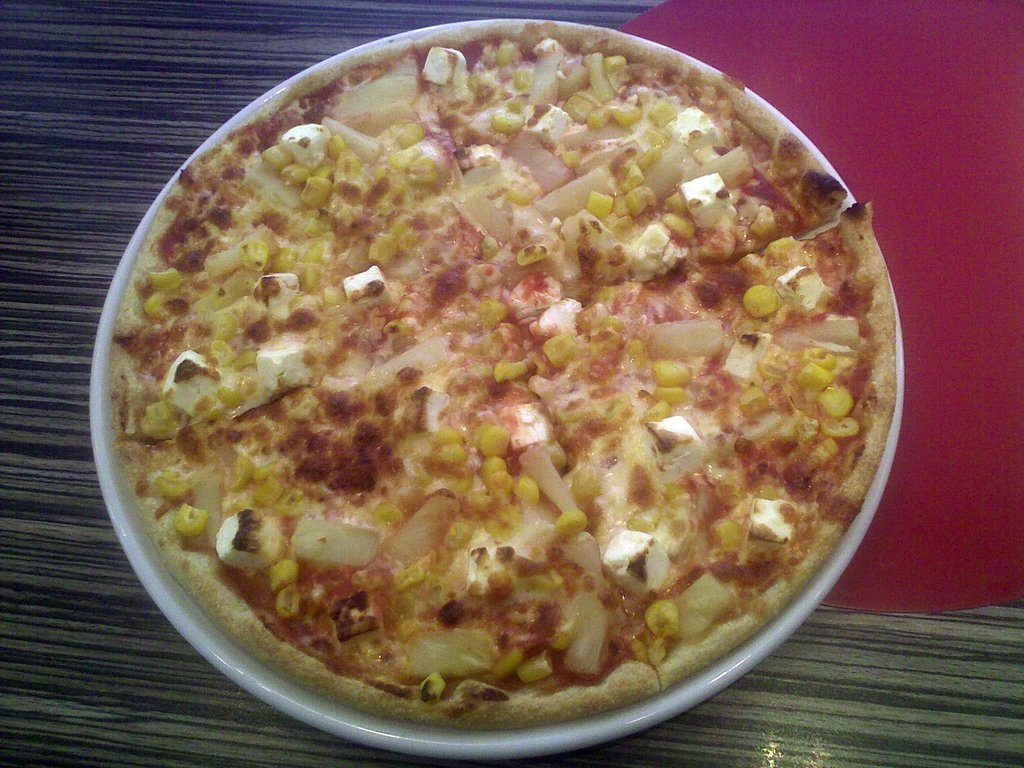Pizza: (85, 0, 894, 735)
